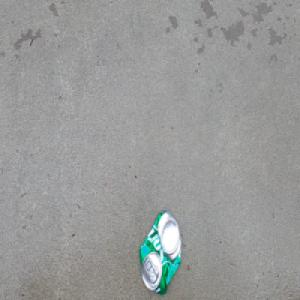SodaCan: (139, 207, 184, 296)
